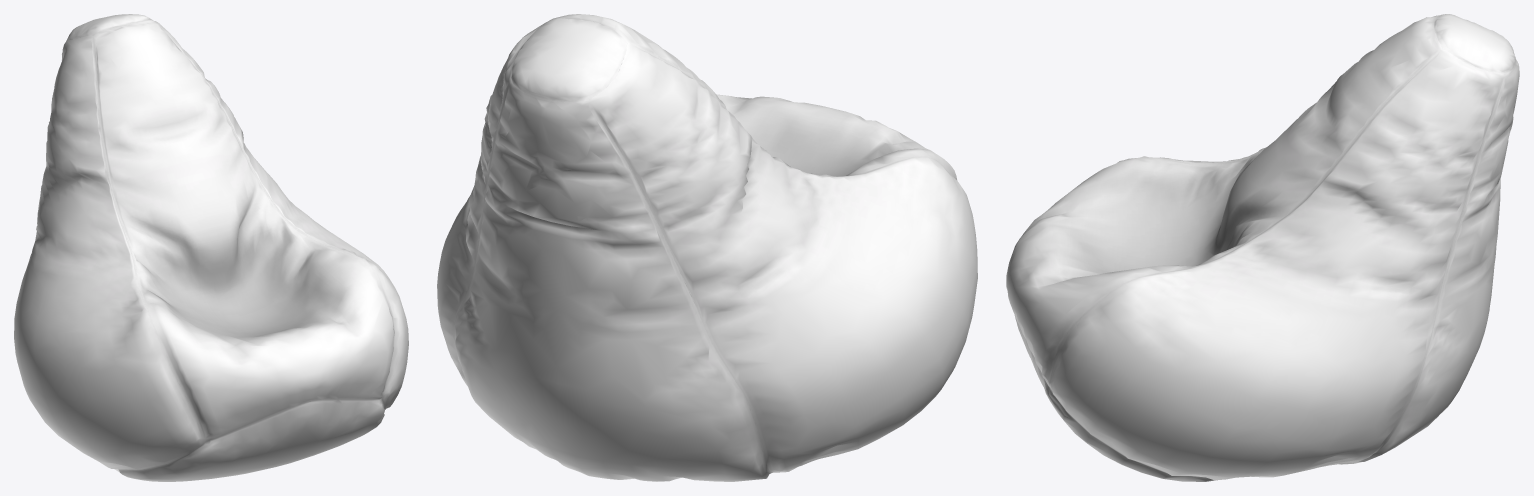
Rendered from bean-bag-chair.glb.
The picture shows the model from 3 angles, left to right: view 1: azimuth 30°, elevation 25°; view 2: azimuth 150°, elevation 25°; view 3: azimuth 270°, elevation 25°; orthographic projection. The views are drawn at different scales.
Visible parts, largest first — view 1: bean-bag-chair-003; view 2: bean-bag-chair-003; view 3: bean-bag-chair-003.
Part boxes in pixels (x1=…): bean-bag-chair-003: x1=14, y1=14, x2=408, y2=481; bean-bag-chair-003: x1=437, y1=14, x2=977, y2=481; bean-bag-chair-003: x1=1006, y1=14, x2=1519, y2=481.
Bounding box in the file's own units: 0.8799 × 0.8664 × 1.01.
1 material, 1 textured.
